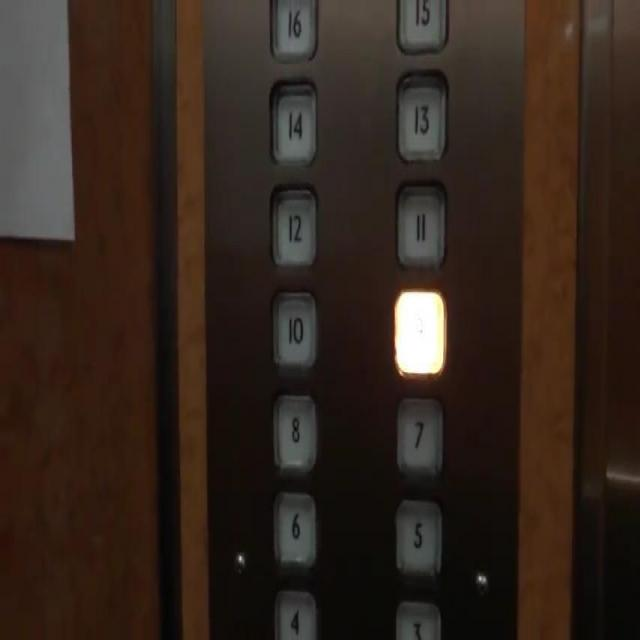10: (270, 286, 317, 366)
11: (394, 182, 446, 266)
12: (270, 184, 317, 267)
13: (396, 69, 447, 164)
14: (268, 76, 316, 165)
16: (268, 0, 318, 59)
4: (272, 589, 316, 639)
5: (394, 498, 442, 574)
6: (271, 491, 317, 565)
7: (396, 397, 443, 475)
8: (271, 389, 317, 471)
blur: (394, 286, 447, 374)
